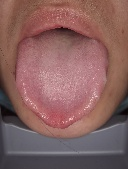tongue: (15, 38, 109, 130)
